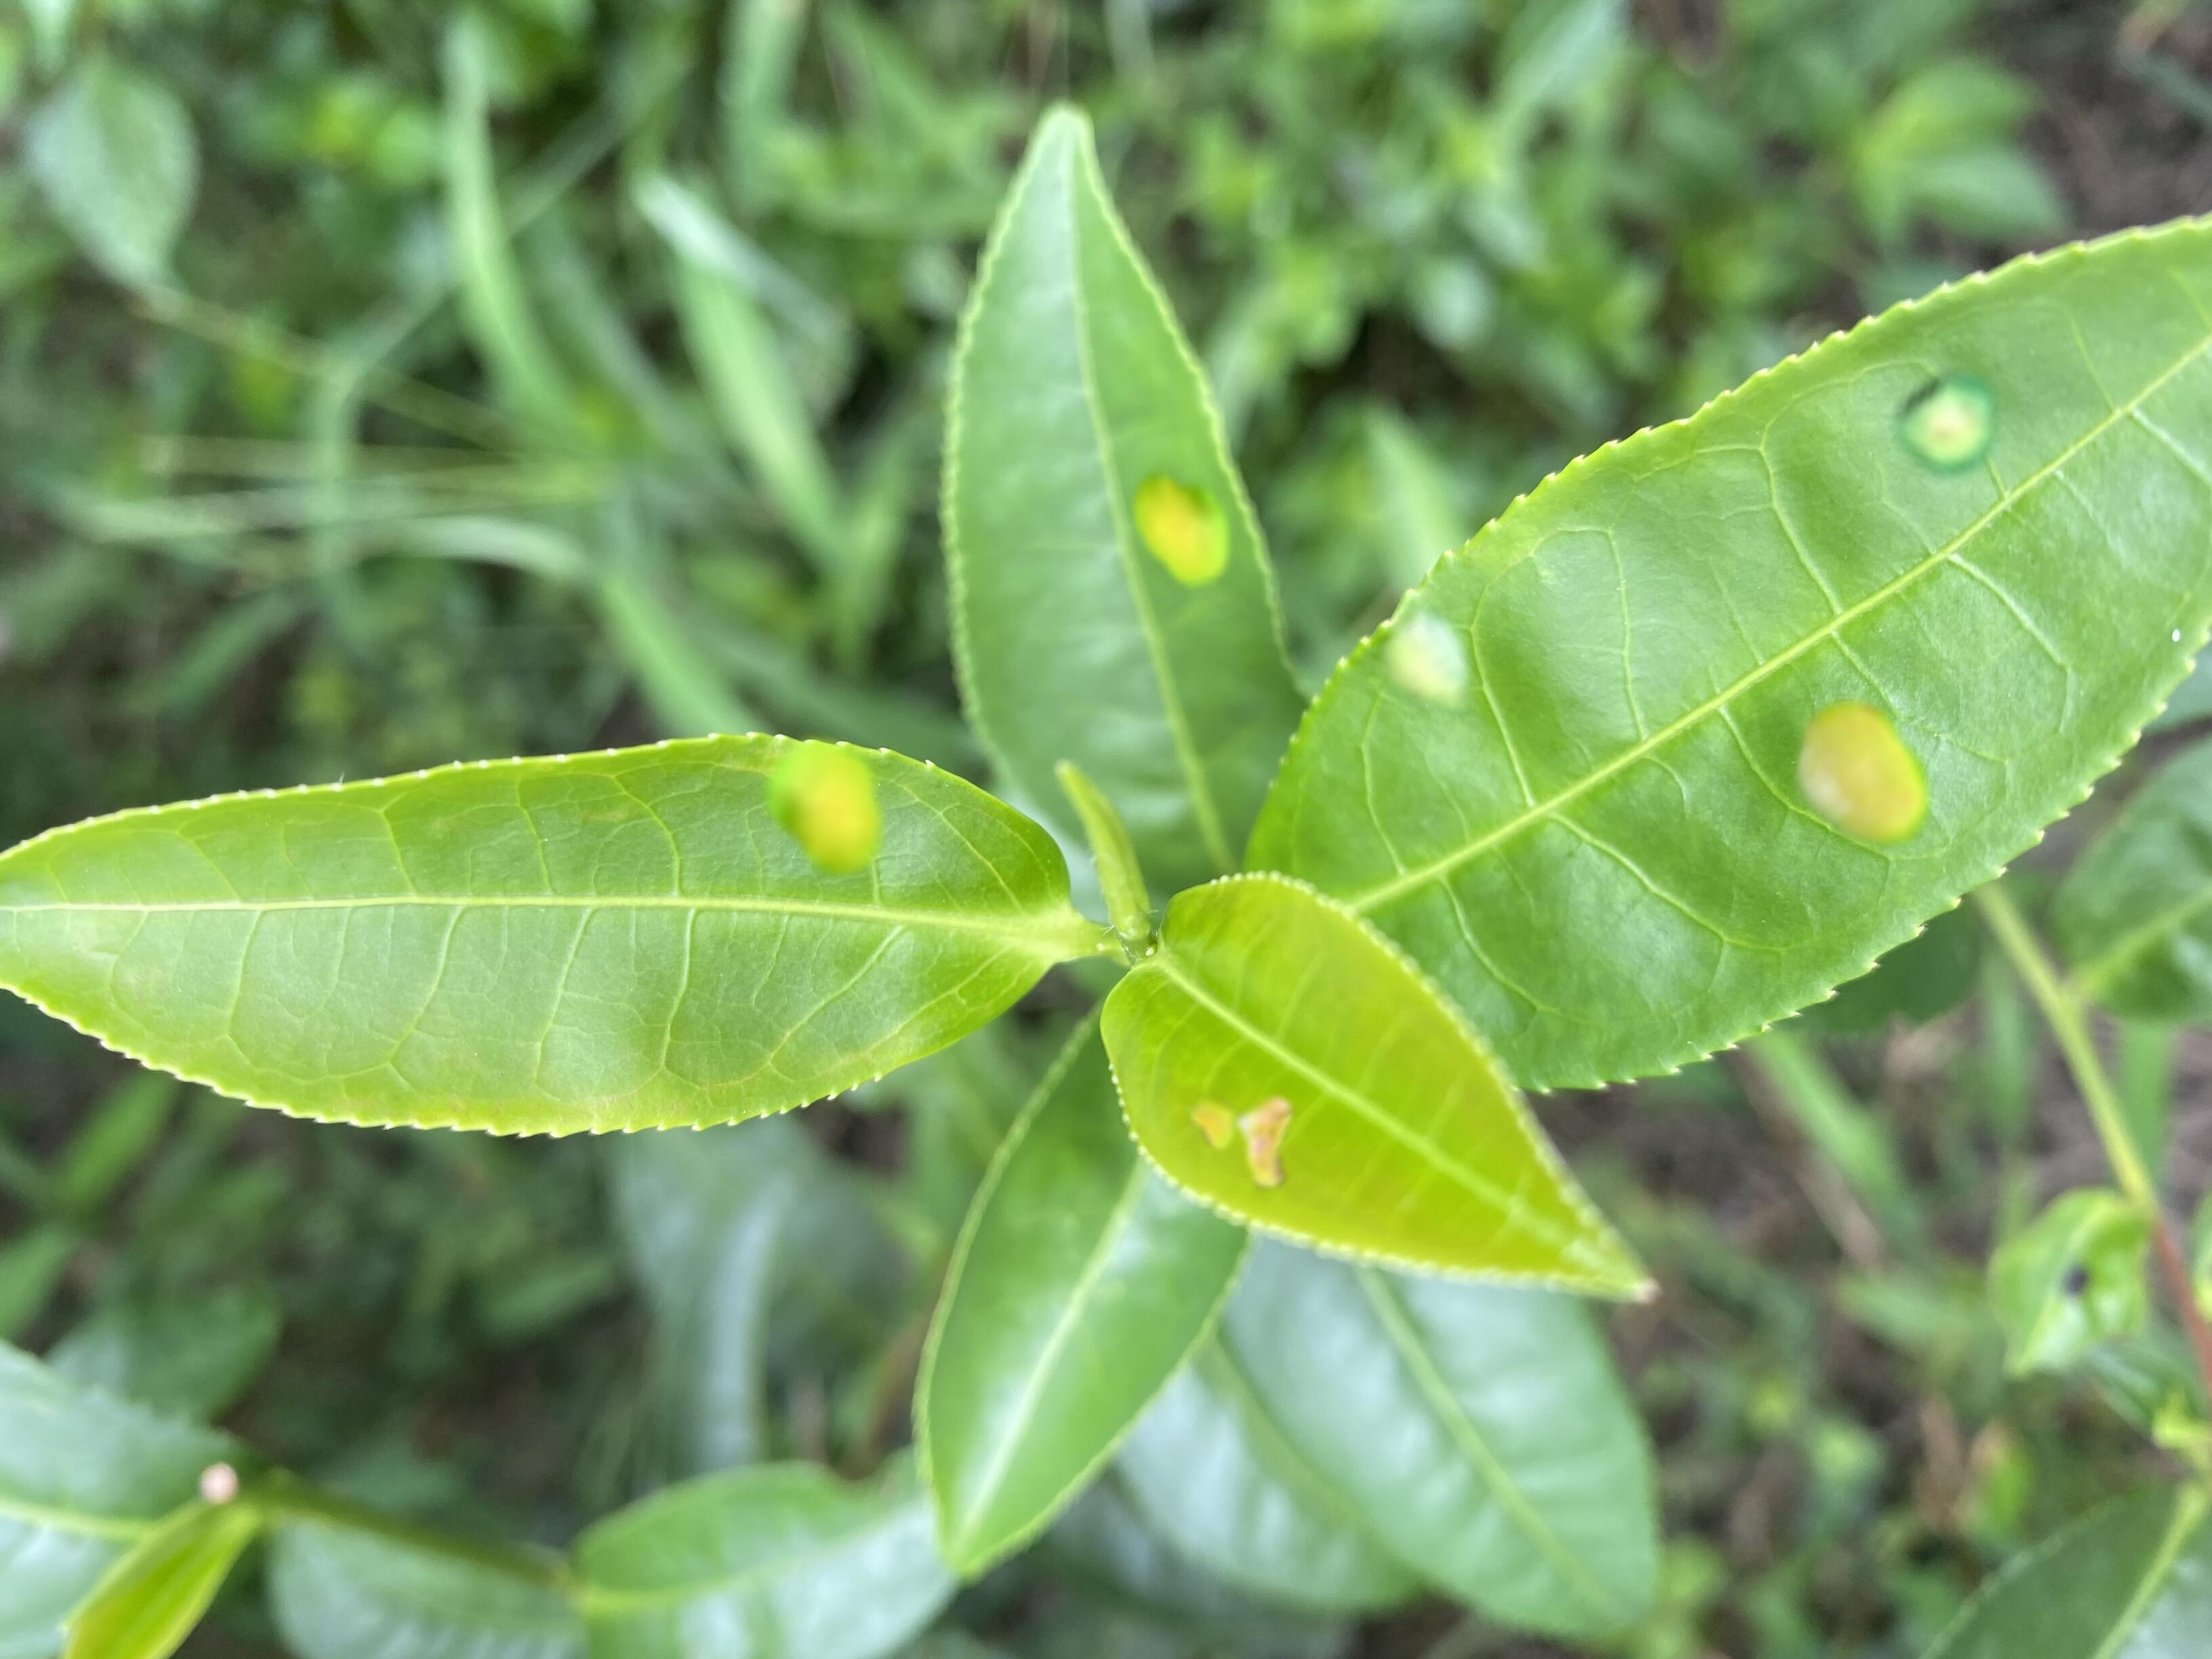chabing_high: (1244, 213, 2209, 1101), (1099, 870, 1653, 1298)
chabing_low: (3, 732, 1075, 1134), (941, 96, 1305, 887)
